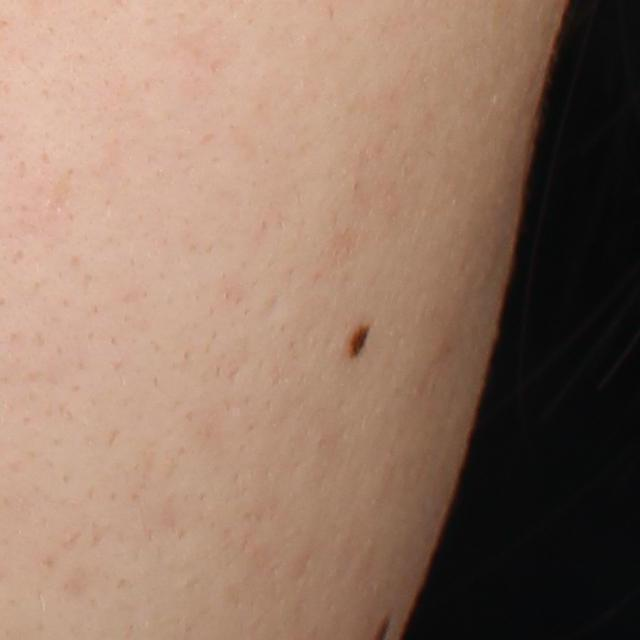nevus: (347, 320, 376, 370)
